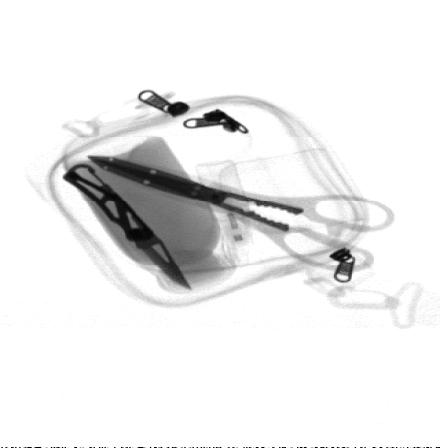Knife: (64, 165, 193, 291)
Scissors: (90, 155, 396, 274)
